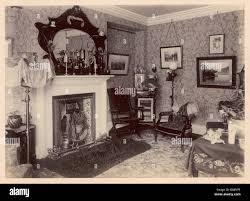chair: (151, 101, 201, 146), (108, 85, 146, 138), (4, 136, 38, 179)
light: (18, 58, 49, 168), (166, 60, 179, 107)
table: (189, 130, 250, 179), (3, 123, 41, 162), (135, 93, 157, 125), (205, 120, 224, 134)
